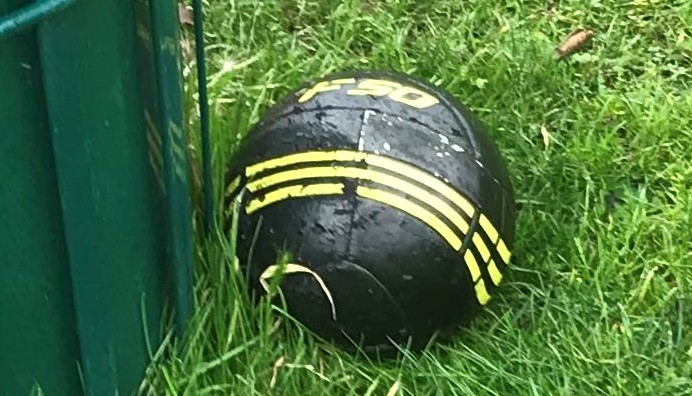football: (220, 70, 519, 349)
